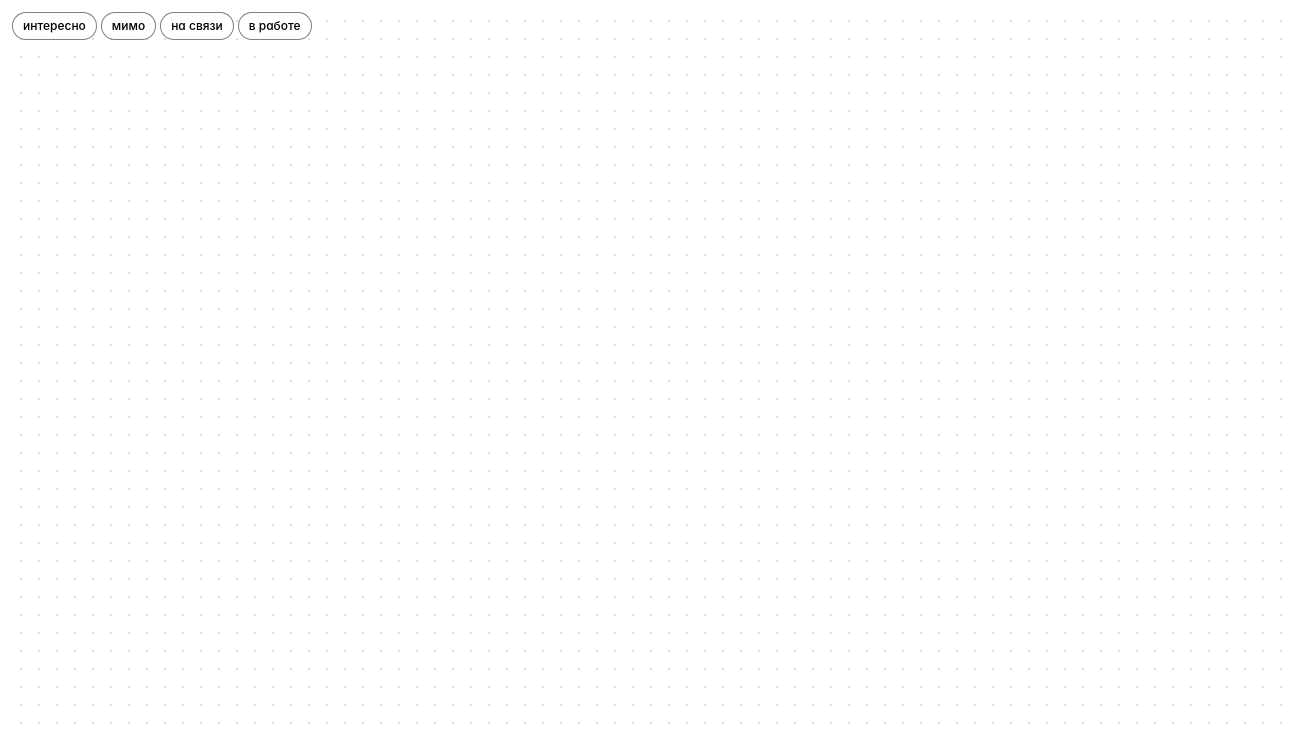
Test case: StatusPicker › explains a conflict when a colleague changed the status first
What coordinates should you click on to do the following:
click the button "в работе"
I would click on:
 (275, 26)
Its box is 238,12 -> 312,40.
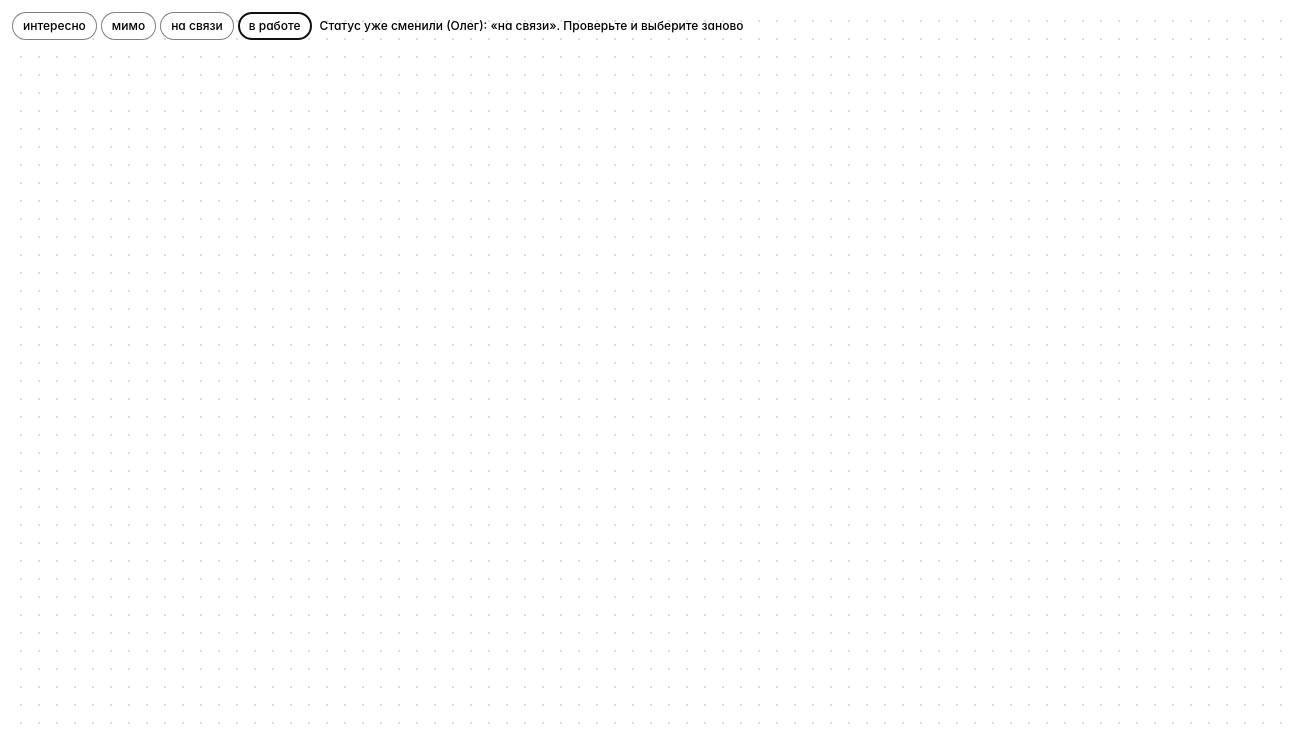
Now the message reads "Статус уже сменили (Олег): «на связи». Проверьте и выберите заново", box 320,18 -> 744,33
